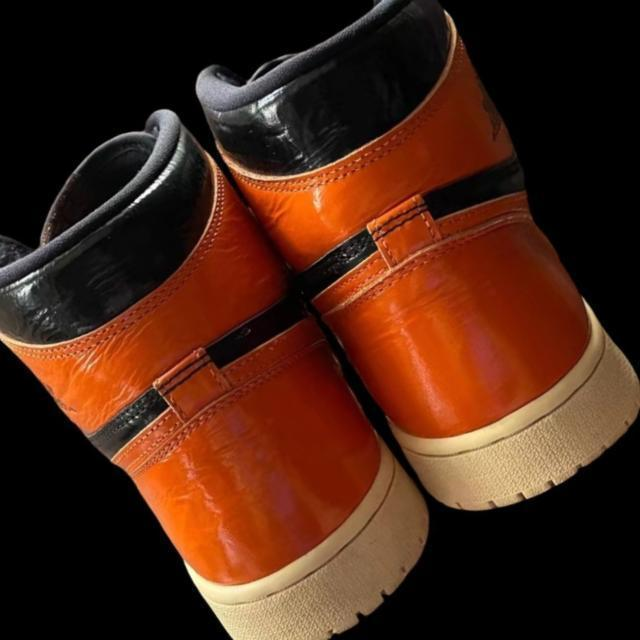nike original jordan 1: (152, 0, 640, 554), (0, 90, 477, 640)
